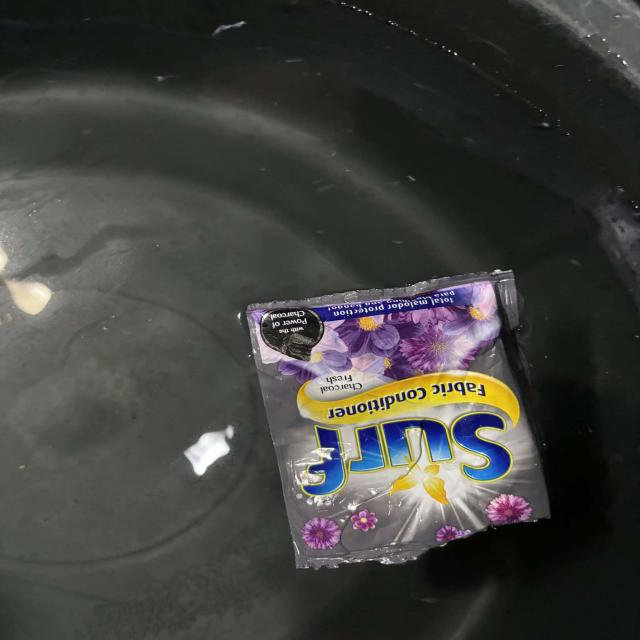Plastic Wrapper: (216, 249, 594, 591)
